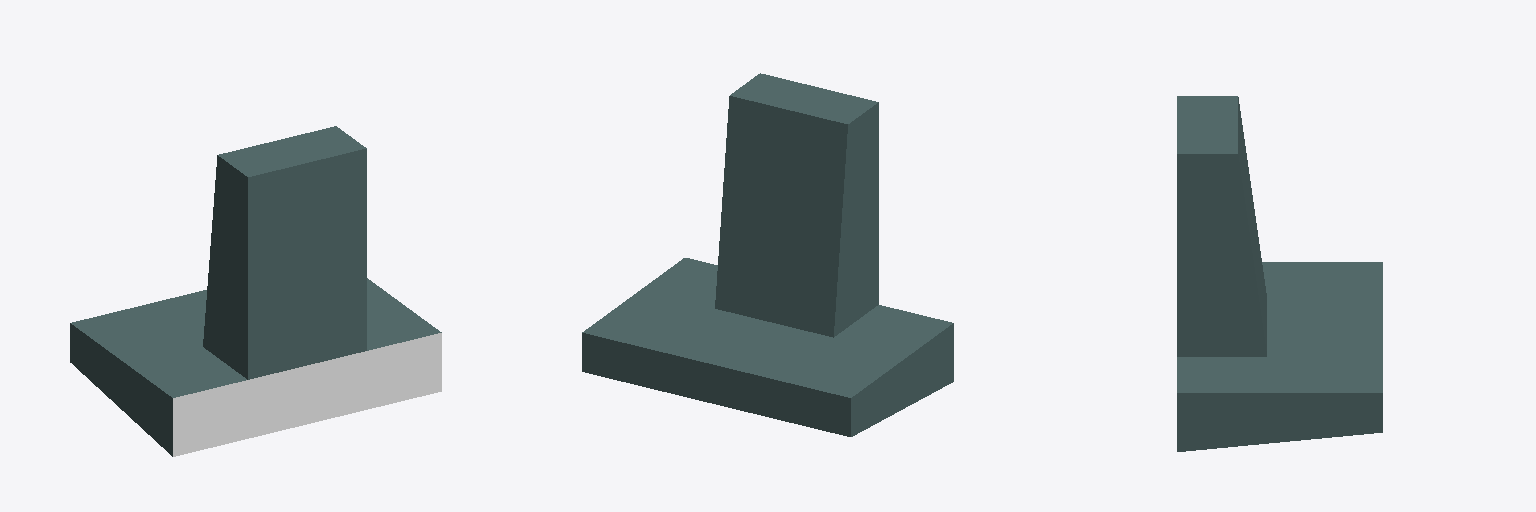
3 views of the same model, side by side, from view 1: azimuth 30°, elevation 25°; view 2: azimuth 150°, elevation 25°; view 3: azimuth 270°, elevation 25° (orthographic).
Parts seen in each view (by area): view 1: hoodModern; view 2: hoodModern; view 3: hoodModern.
Boxes of the visible parts, <box> form: hoodModern: <box>70,126,441,456</box>; hoodModern: <box>582,73,953,436</box>; hoodModern: <box>1177,96,1382,451</box>.
Size of the model in its own units: 1 by 0.9291 by 0.6626.